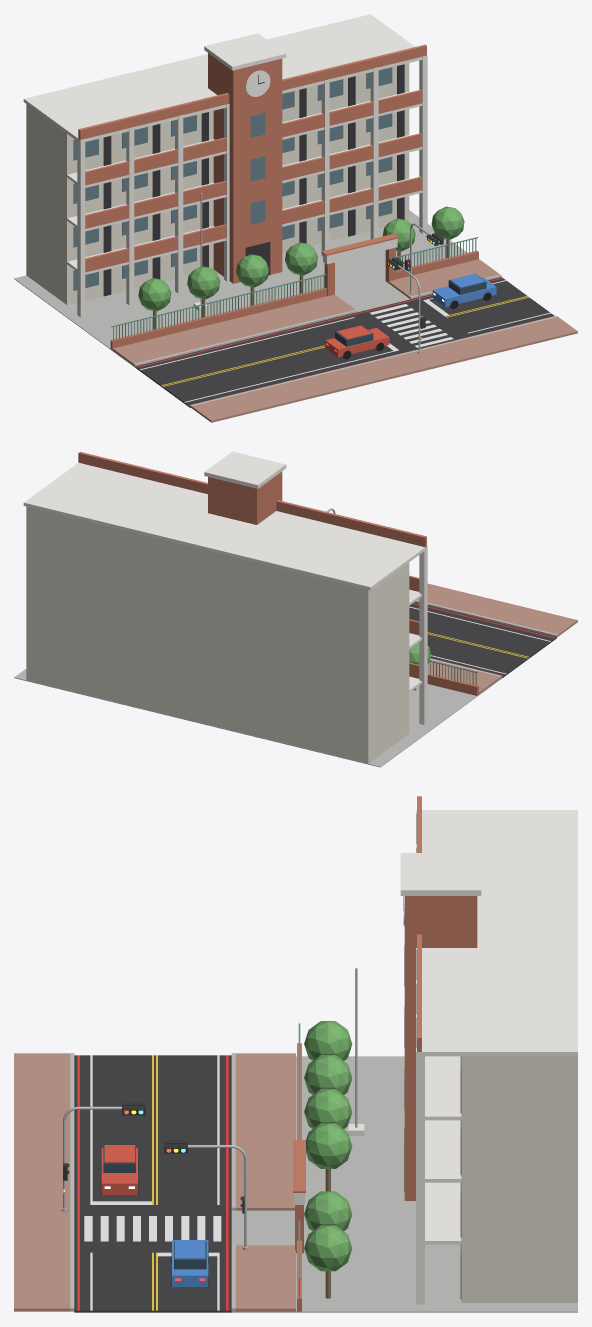
Rendered from crosswalk-scene.glb.
The picture shows the model from 3 angles, top to bottom: view 1: azimuth 30°, elevation 25°; view 2: azimuth 150°, elevation 25°; view 3: azimuth 270°, elevation 25°; orthographic projection. The views are drawn at different scales.
Parts seen in each view (by area): view 1: School_Building, Road, School_ClockTower, School_Ground, Sidewalk_Near, Sidewalk_Far, School_Trees, School_Fence, School_Gate, Car_1, Car_2, Crosswalk_Stripes (+5 smaller); view 2: School_Building, Road, School_ClockTower, School_Ground, Sidewalk_Near, School_Fence, Sidewalk_Far, Curb_Near; view 3: School_Building, Road, School_Ground, Sidewalk_Near, Sidewalk_Far, School_ClockTower, School_Trees, Crosswalk_Stripes, Car_1, Car_2, RedLines, Curb_Near (+8 smaller).
Part boxes in pixels (box(x1,y1,x2,y2)): School_Building: box(23, 14, 427, 317); Road: box(135, 277, 554, 407); School_ClockTower: box(204, 33, 286, 283); School_Ground: box(14, 210, 467, 367); Sidewalk_Near: box(191, 317, 577, 422); Sidewalk_Far: box(112, 259, 499, 365); School_Trees: box(138, 206, 464, 329); School_Fence: box(110, 237, 478, 349); School_Gate: box(321, 233, 399, 296); Car_1: box(325, 325, 389, 359); Car_2: box(432, 273, 496, 308); Crosswalk_Stripes: box(369, 304, 453, 347); School_Building: box(23, 452, 427, 763); Road: box(409, 602, 556, 678); School_ClockTower: box(204, 451, 286, 524); School_Ground: box(14, 669, 501, 767); Sidewalk_Near: box(416, 583, 577, 637); School_Fence: box(427, 660, 478, 695); Sidewalk_Far: box(427, 660, 500, 694); Curb_Near: box(414, 600, 557, 636); School_Building: box(416, 796, 577, 1304); Road: box(74, 1055, 231, 1312); School_Ground: box(231, 1056, 577, 1312); Sidewalk_Near: box(14, 1053, 74, 1311); Sidewalk_Far: box(235, 1053, 295, 1311); School_ClockTower: box(400, 853, 481, 1200); School_Trees: box(304, 1021, 352, 1298); Crosswalk_Stripes: box(84, 1216, 221, 1241); Car_1: box(101, 1145, 138, 1194); Car_2: box(171, 1240, 208, 1286); RedLines: box(77, 1055, 228, 1310); Curb_Near: box(70, 1053, 74, 1311).
Bounding box in the file's own units: 30 × 17.16 × 28.
